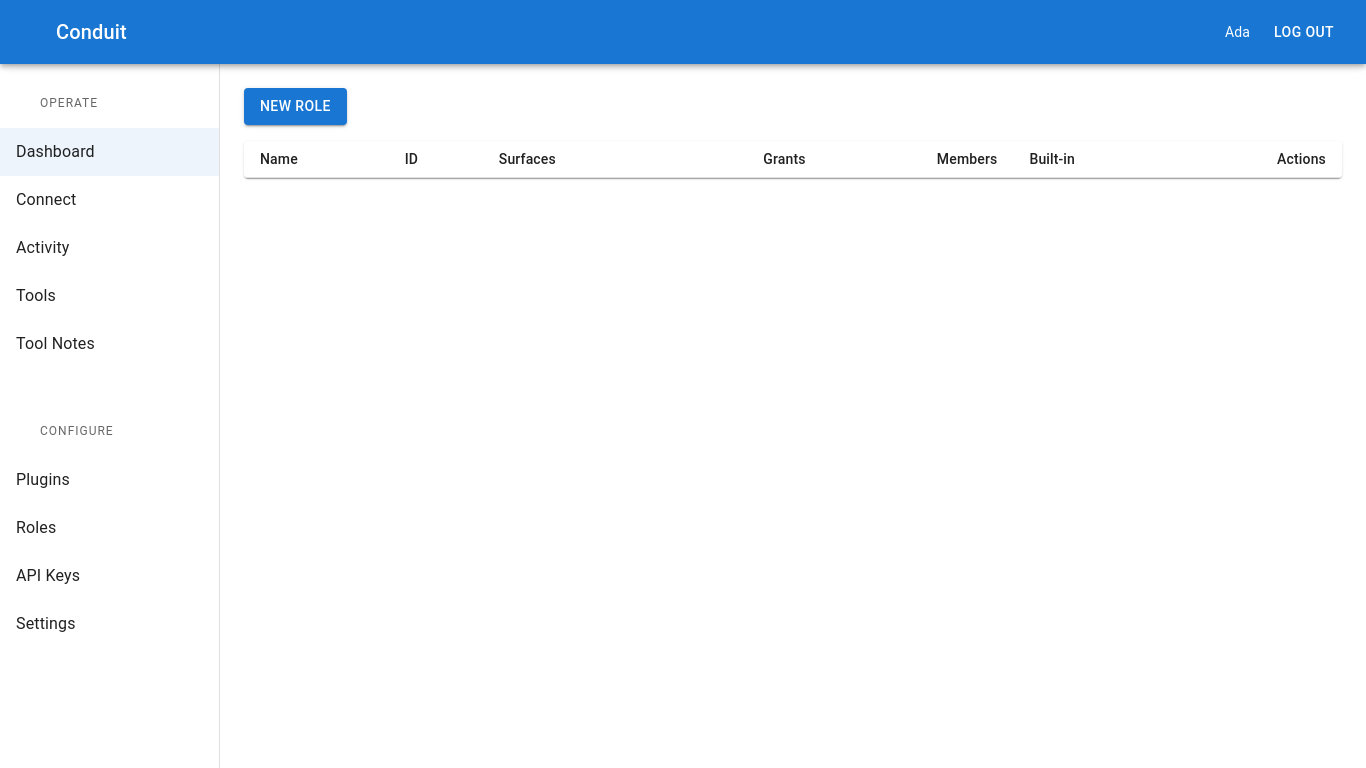
Scenario: roles page › blocks a save with no surfaces checked and shows the surfaces error
The image size is (1366, 768).
Click the button "New role" at point(295, 106), box [244,88,347,124]
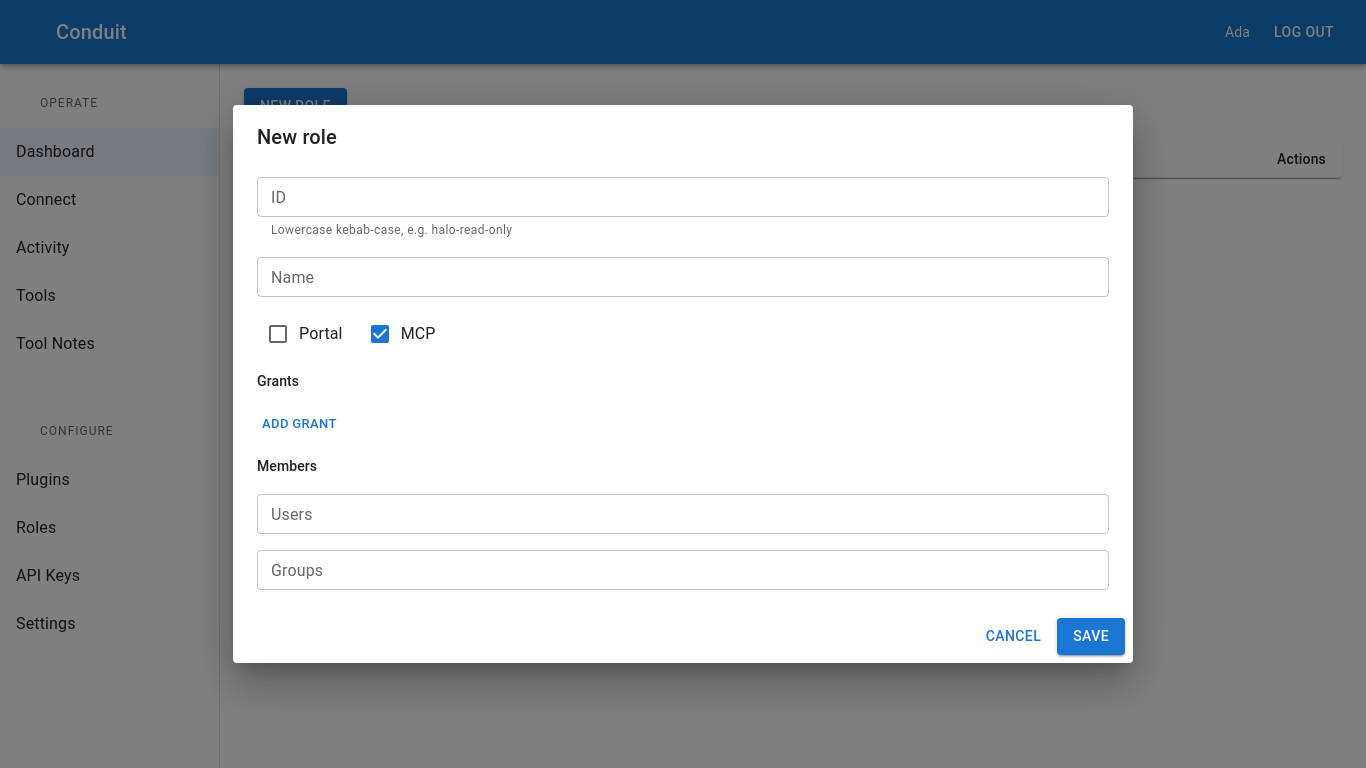
Type "halo-ro" into the field labelled "ID" at point(683, 198), box [257,178,1109,218]
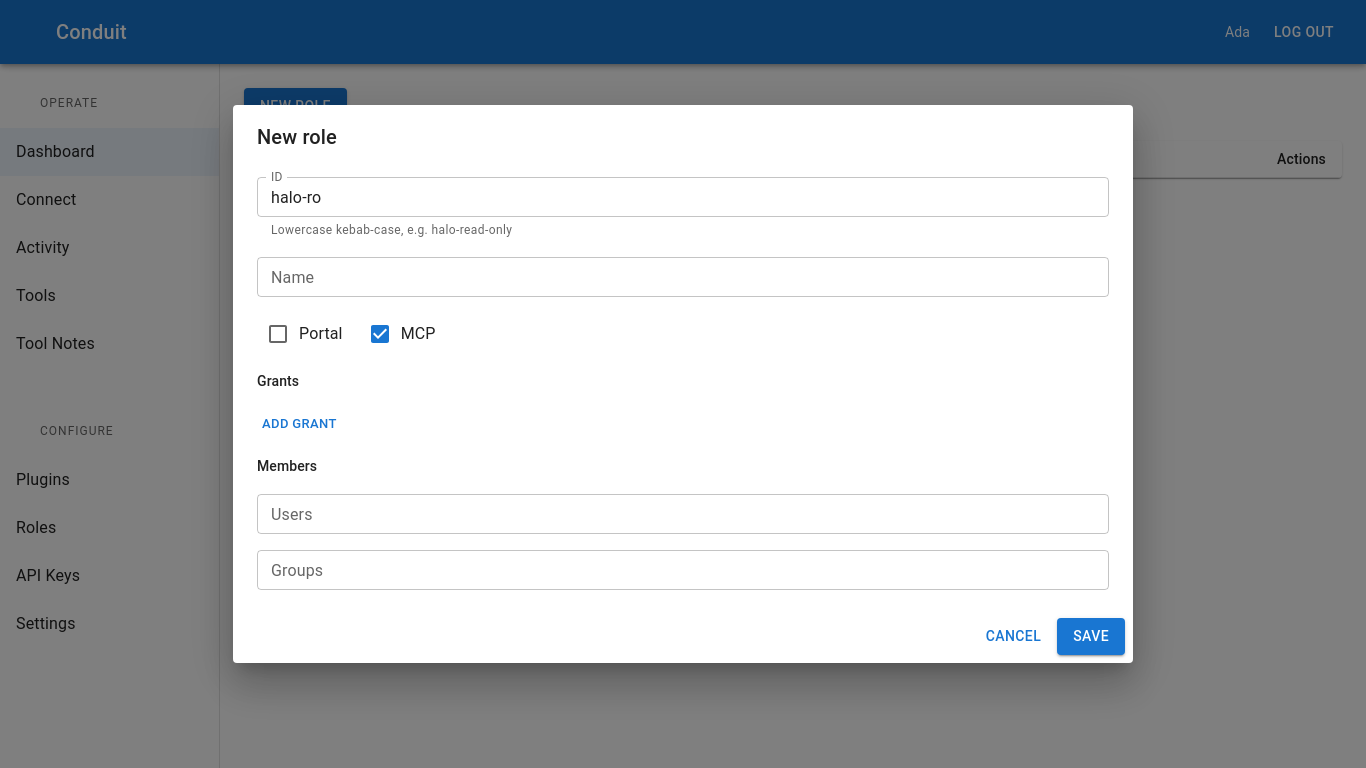
Click the checkbox labelled "MCP" at point(402, 334), box [368,322,436,346]
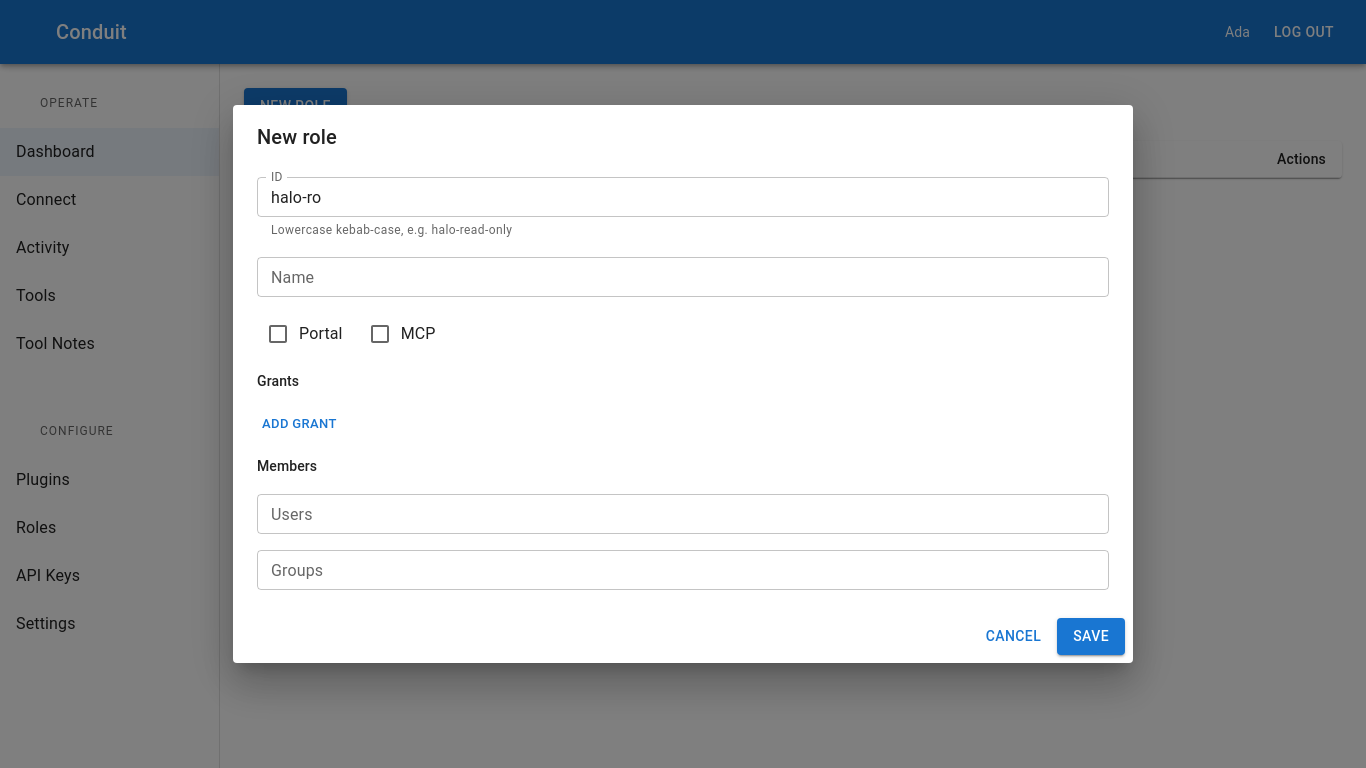
Click the button "Save" at point(1091, 636), box [1057,618,1125,654]
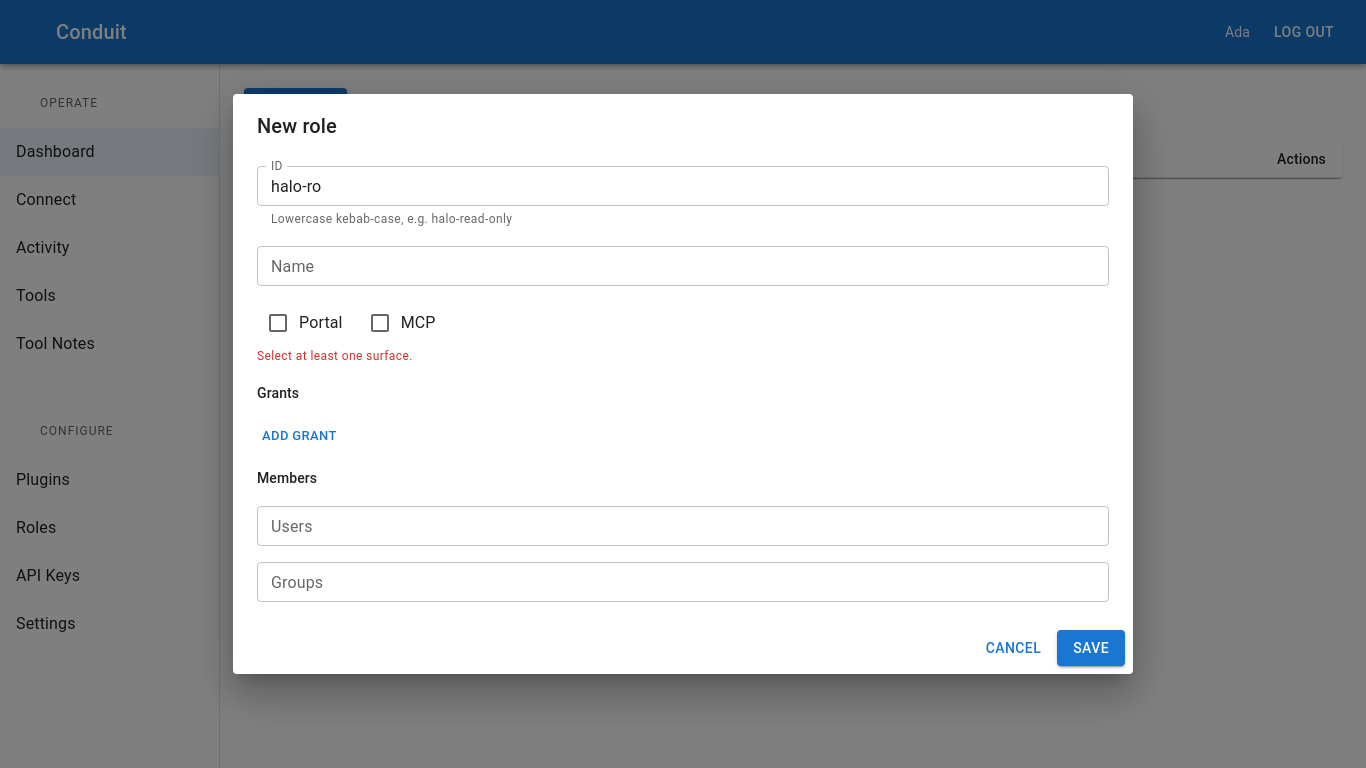
Now the text "Select at least one surface." is shown, box [257,349,413,363]
